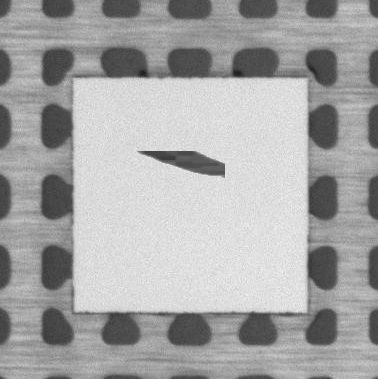DIE_INK: (135, 151, 224, 182)
